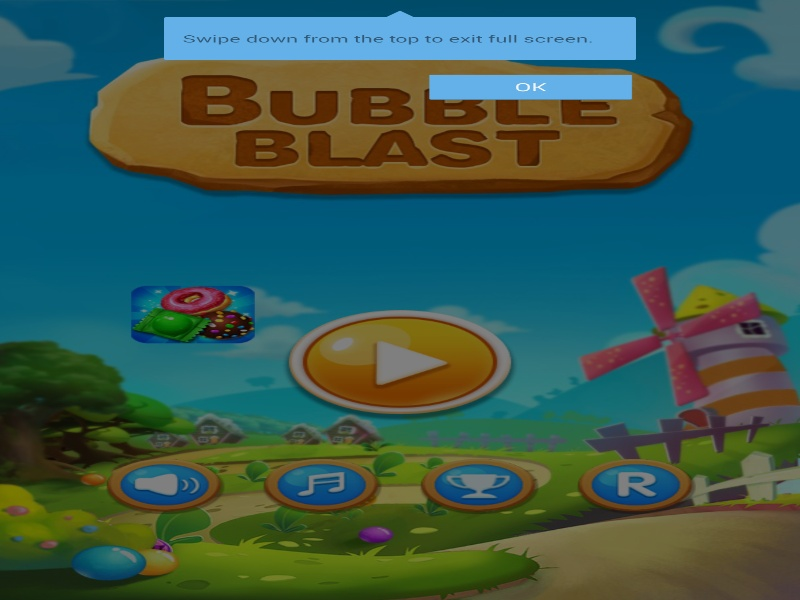Input: (0, 0, 800, 30)
